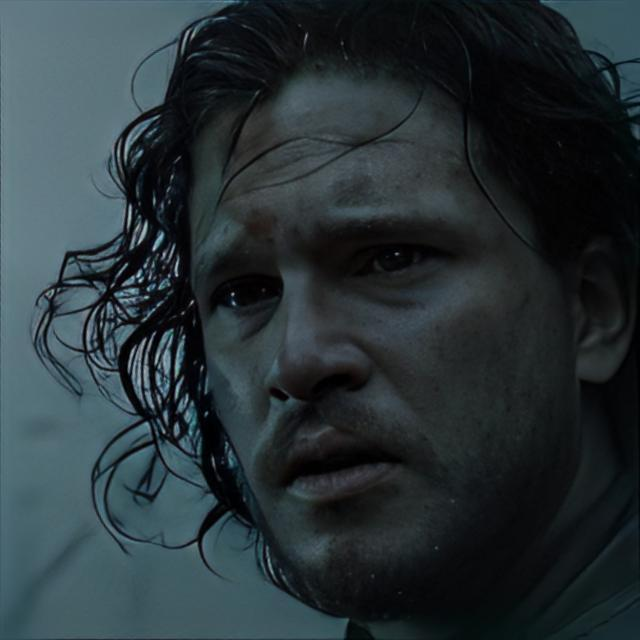fear: (183, 59, 580, 618)
